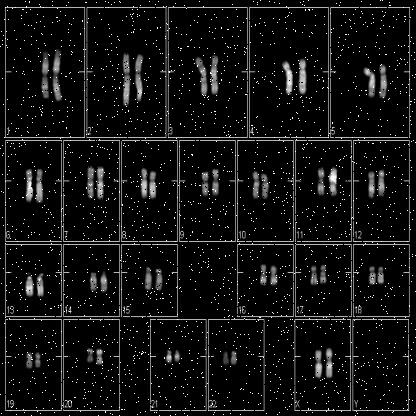1: (52, 48, 64, 102), (41, 48, 50, 100)
10: (260, 172, 270, 200), (252, 169, 260, 200)
11: (328, 166, 339, 197), (316, 166, 325, 200)
12: (378, 168, 386, 198), (368, 168, 375, 199)
13: (24, 273, 34, 298), (36, 272, 44, 300)
14: (99, 271, 108, 294), (90, 269, 98, 294)
15: (144, 264, 154, 292), (154, 268, 164, 292)
16: (270, 266, 280, 290), (260, 262, 268, 288)
17: (310, 263, 318, 287), (320, 263, 327, 289)
18: (376, 264, 386, 288), (368, 264, 376, 286)
19: (34, 350, 41, 372), (25, 350, 33, 368)
2: (121, 52, 131, 107), (134, 53, 144, 101)
20: (95, 346, 104, 368), (86, 346, 94, 366)
21: (164, 348, 172, 365), (174, 350, 181, 366)
22: (221, 350, 230, 368), (231, 350, 238, 368)
3: (194, 57, 209, 98), (209, 54, 221, 96)
4: (282, 59, 294, 97), (298, 56, 308, 96)
5: (362, 65, 376, 99), (380, 62, 388, 102)
6: (23, 168, 34, 204), (34, 168, 44, 205)
7: (95, 166, 105, 202), (86, 164, 95, 200)
8: (148, 171, 158, 202), (140, 166, 148, 200)
9: (210, 168, 220, 198), (200, 170, 210, 198)
X: (325, 346, 334, 382), (314, 348, 324, 379)
